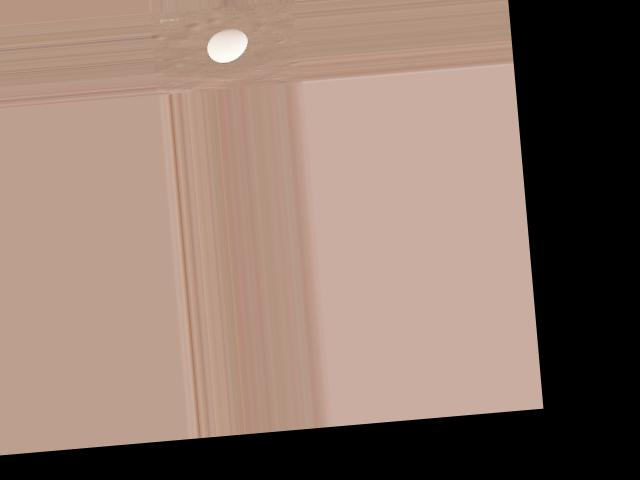egg: (206, 27, 250, 63)
